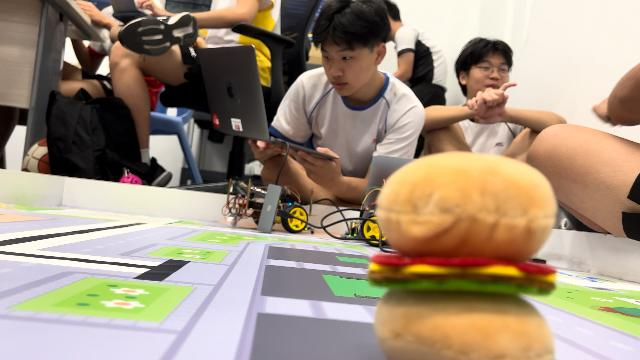burger: (368, 146, 566, 358)
